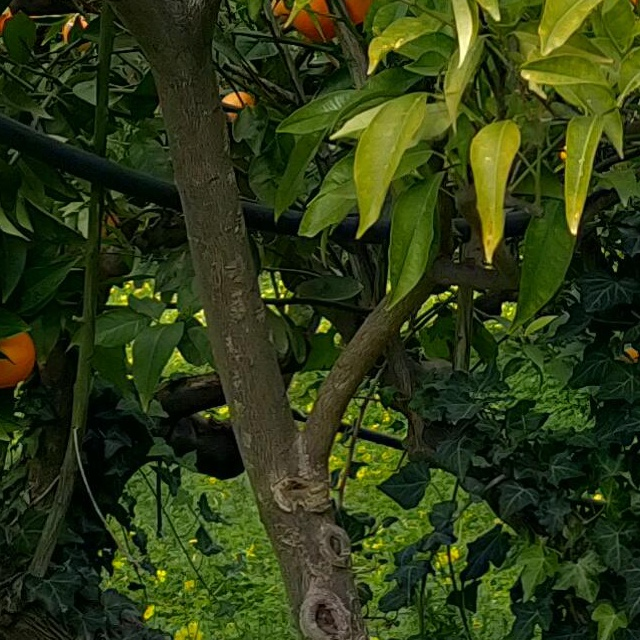orange: (0, 309, 46, 395), (270, 0, 338, 40), (344, 0, 386, 25)
